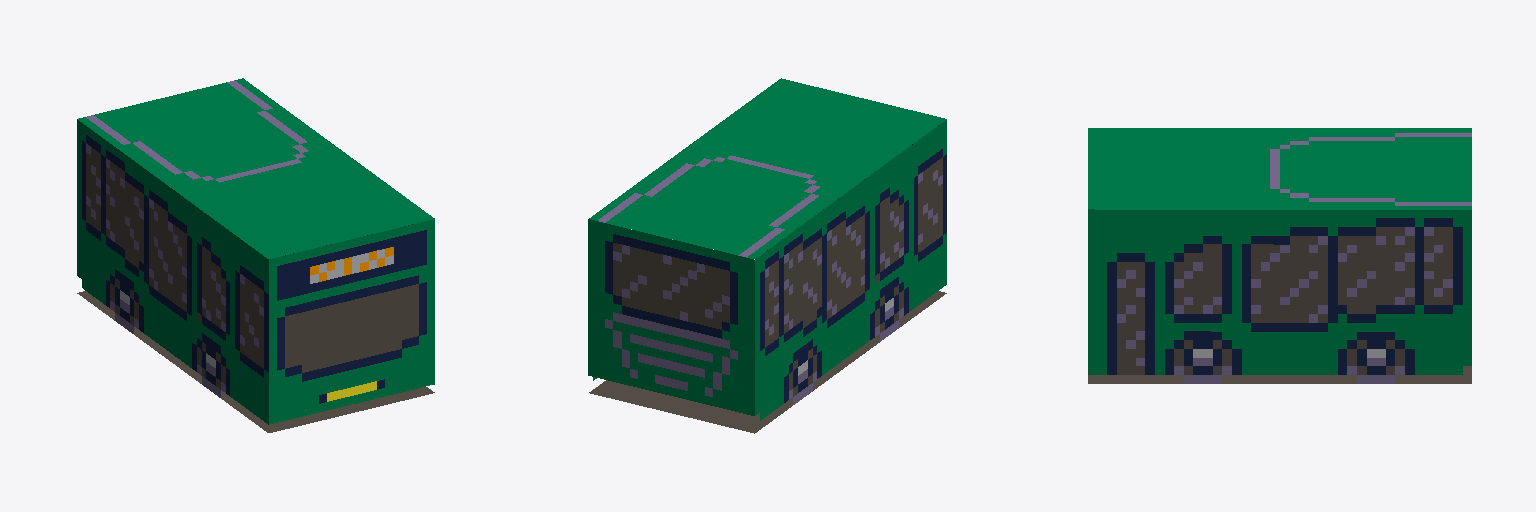
3 views of the same model, side by side, from view 1: azimuth 30°, elevation 25°; view 2: azimuth 150°, elevation 25°; view 3: azimuth 270°, elevation 25° (orthographic).
Visible parts, largest first — view 1: bus; view 2: bus; view 3: bus.
Boxes of the visible parts, box(x1,y1,x2,y2) form: bus: box(77, 78, 434, 432); bus: box(588, 78, 946, 433); bus: box(1088, 128, 1471, 383).
Size of the model in its own units: 1 by 0.9998 by 2.
1 materials, 1 textured.